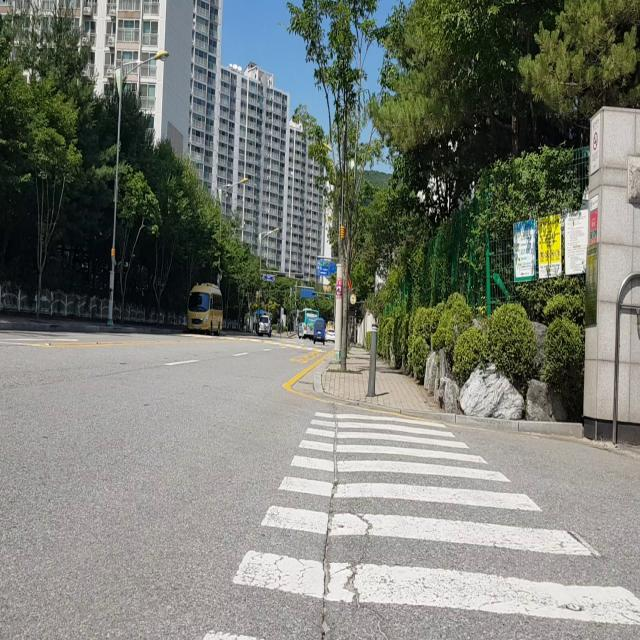횡단보도: (200, 406, 640, 640)
